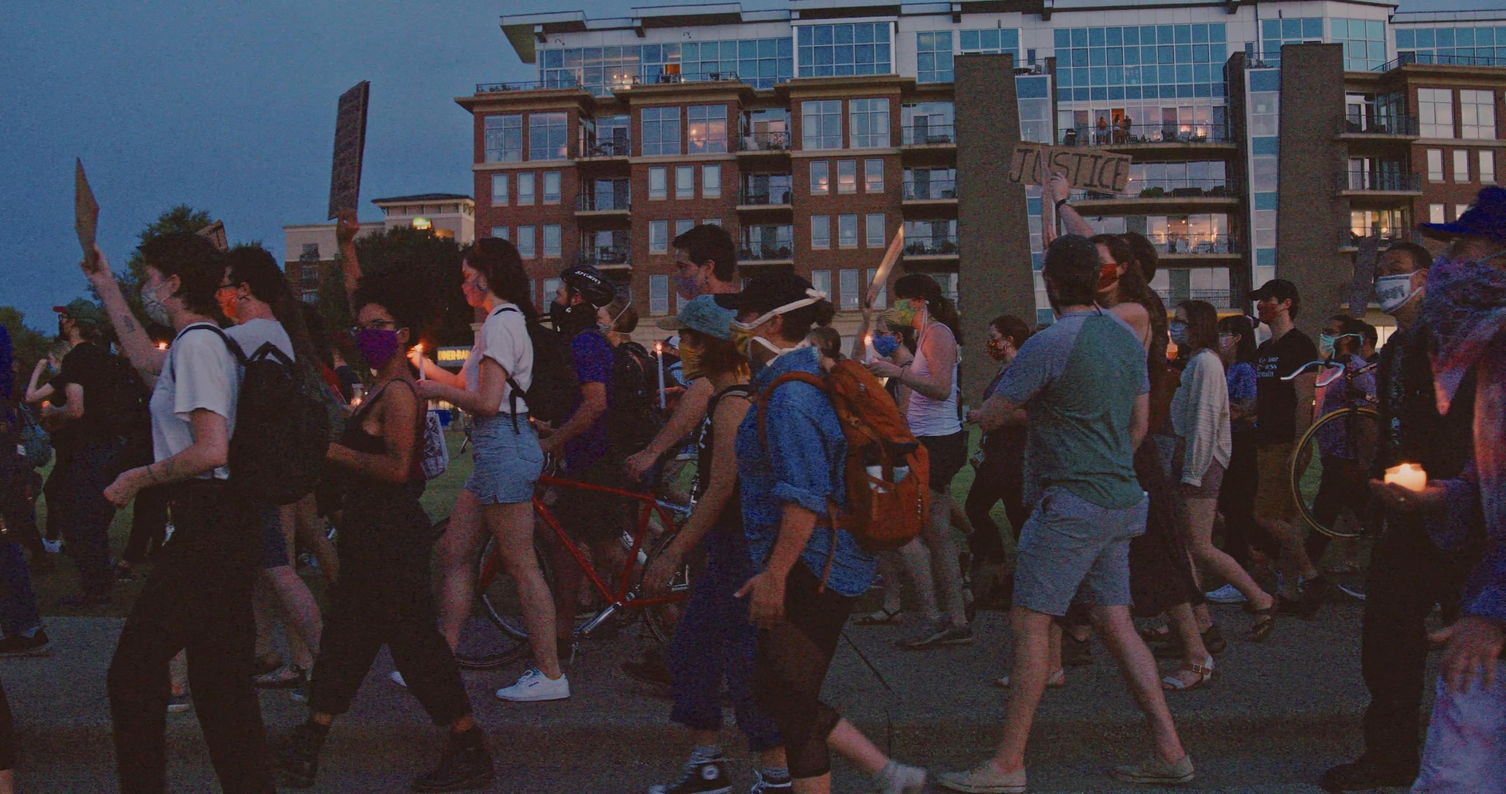helmet: (549, 263, 614, 337)
no-helmet: (1415, 184, 1506, 357), (713, 271, 836, 363), (135, 232, 227, 329), (654, 293, 738, 383), (350, 285, 421, 371), (214, 245, 287, 320), (459, 236, 531, 310), (672, 223, 737, 301), (1042, 233, 1104, 313), (1373, 241, 1434, 317), (1088, 233, 1139, 295), (891, 273, 947, 327), (1169, 299, 1220, 354), (1247, 278, 1300, 325), (986, 314, 1032, 361), (52, 299, 102, 342), (871, 308, 914, 358), (1318, 314, 1364, 360), (1214, 314, 1256, 359), (596, 295, 638, 337), (46, 342, 72, 374)
